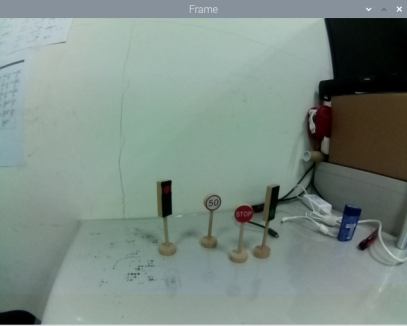Green: (262, 184, 281, 226)
Red: (153, 178, 177, 221)
Speed50: (203, 191, 220, 213)
Stop: (232, 204, 255, 224)
